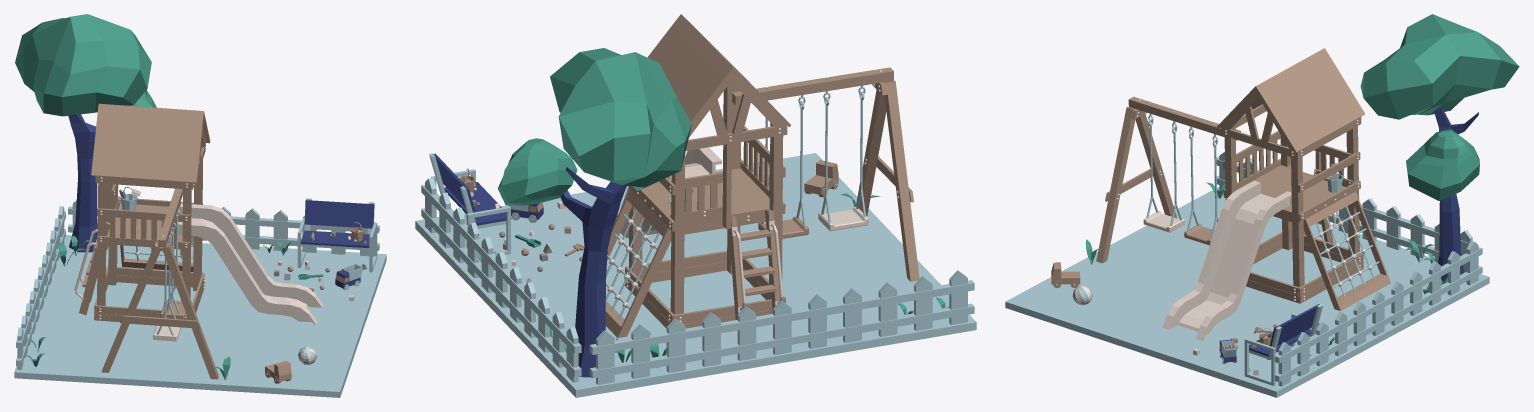
File: Playground.fbx
The picture shows the model from 3 angles, left to right: view 1: azimuth 30°, elevation 25°; view 2: azimuth 150°, elevation 25°; view 3: azimuth 270°, elevation 25°; orthographic projection. The views are drawn at different scales.
Visible parts, largest first — view 1: Playground_Base, Playground_Childrens_Complex, Playground_Tree, Playground_Fence, Playground_Bench, Playground_Grass, Playground_Chil_Car1, Playground_Chil_Car2; view 2: Playground_Childrens_Complex, Playground_Base, Playground_Tree, Playground_Fence, Playground_Bench, Playground_Chil_Car2, Playground_Grass, Playground_Chil_Car1; view 3: Playground_Childrens_Complex, Playground_Base, Playground_Tree, Playground_Fence, Playground_Bench, Playground_Grass, Playground_Chil_Car2.
Part boxes in pixels (x1,y1,x2,y2): Playground_Base: (14,235,386,397); Playground_Childrens_Complex: (74,103,323,379); Playground_Tree: (15,14,156,252); Playground_Fence: (16,200,379,369); Playground_Bench: (297,198,377,272); Playground_Grass: (24,235,295,379); Playground_Chil_Car1: (335,263,362,290); Playground_Chil_Car2: (265,361,291,383); Playground_Childrens_Complex: (605,14,919,337); Playground_Base: (415,153,976,397); Playground_Tree: (497,48,691,377); Playground_Fence: (421,177,974,384); Playground_Bench: (429,153,511,259); Playground_Chil_Car2: (804,160,838,197); Playground_Grass: (479,193,948,368); Playground_Chil_Car1: (508,202,543,222); Playground_Childrens_Complex: (1096,48,1390,340); Playground_Base: (1005,187,1489,397); Playground_Tree: (1360,14,1519,281); Playground_Fence: (1214,152,1482,386); Playground_Bench: (1244,304,1322,385); Playground_Grass: (1085,182,1447,345); Playground_Chil_Car2: (1051,262,1080,288).
Bounding box in the file's own units: 702 × 745 × 416.
